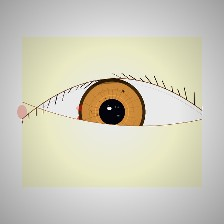hemorrhage_spot: (66, 93, 139, 151)
